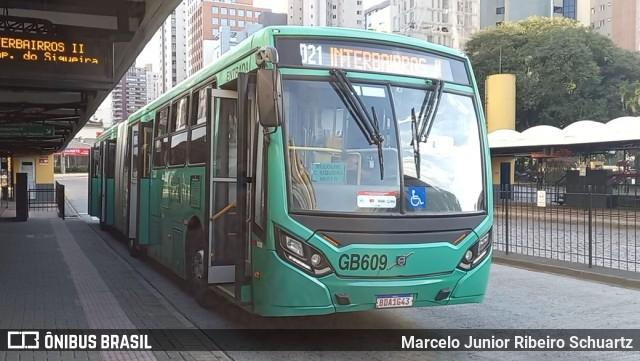INTERBAIRROS II: (326, 44, 442, 82)
